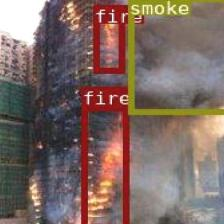fire: (81, 104, 127, 224), (93, 4, 124, 72)
smoke: (126, 0, 224, 112)
